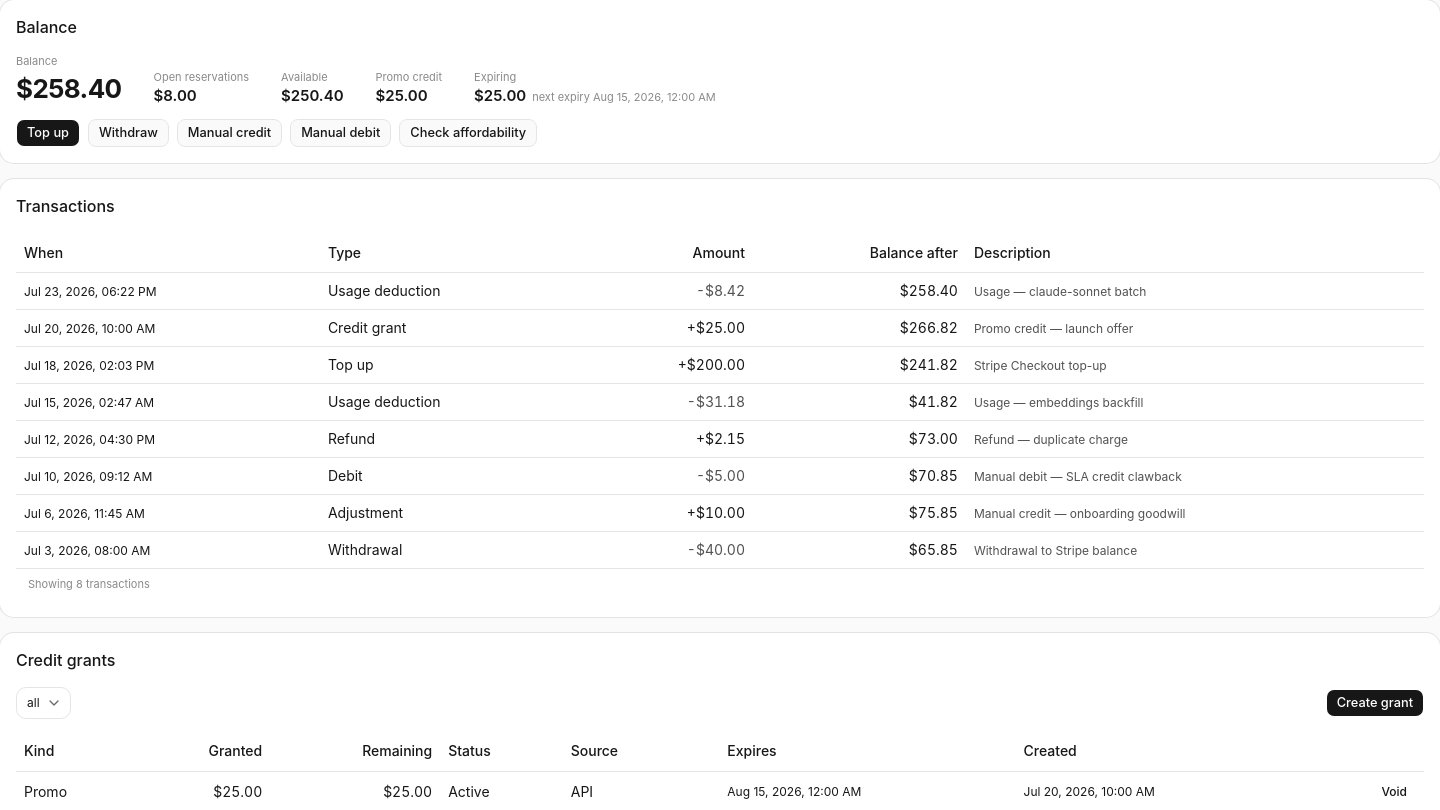
Test case: BillingTab › asks the affordability question and branches on the verdict body (HTTP 200)
Click the button "Check affordability" at (468, 133), box left=399, top=119, right=537, bottom=147
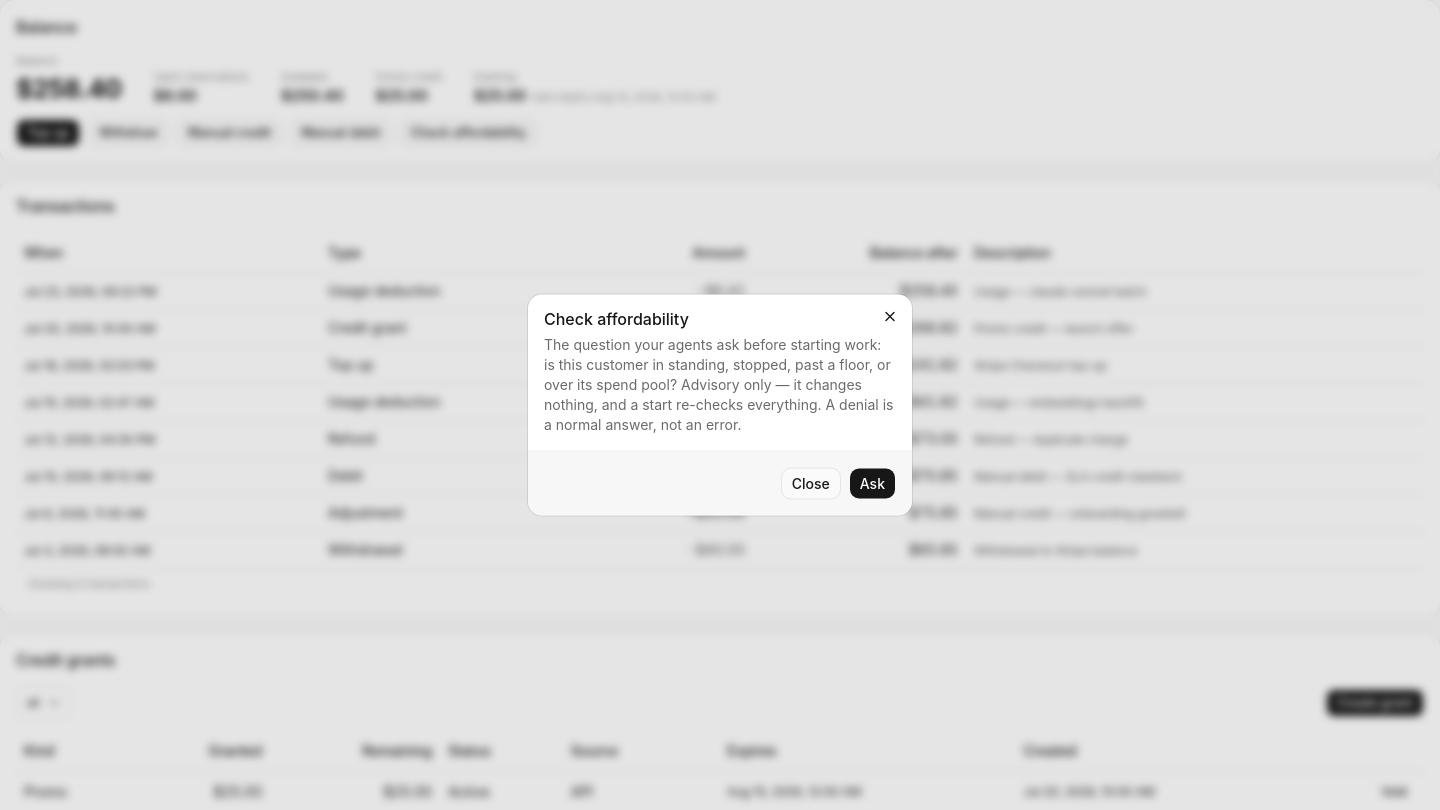
Click the button "Ask" at (872, 484), box left=849, top=468, right=896, bottom=500
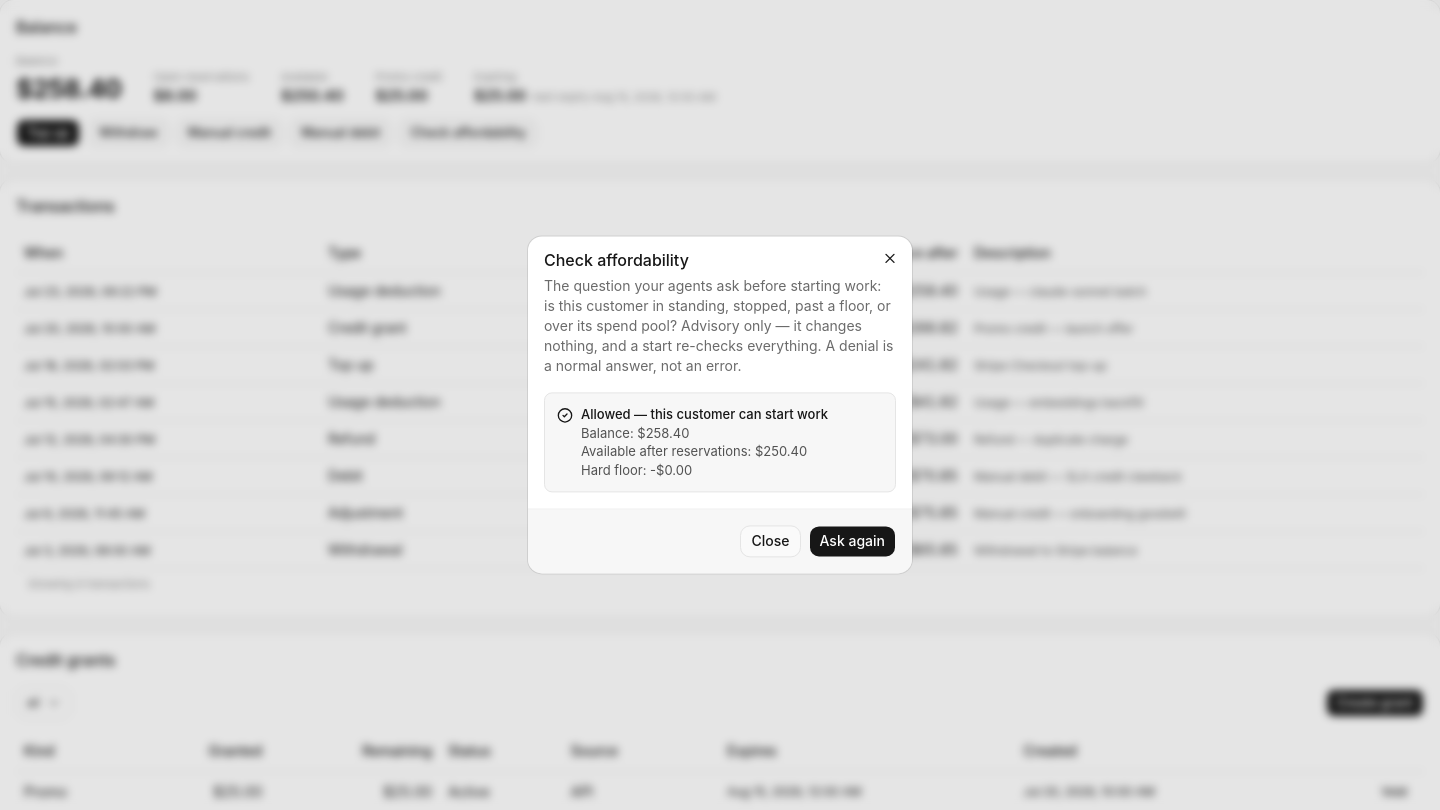
Check: the text "Allowed — this customer can start work" is shown, box left=581, top=405, right=828, bottom=424
Check: the text "Available after reservations: $250.40" is shown, box left=581, top=442, right=828, bottom=461
Check: the text "Hard floor: -$0.00" is shown, box left=581, top=462, right=692, bottom=478
